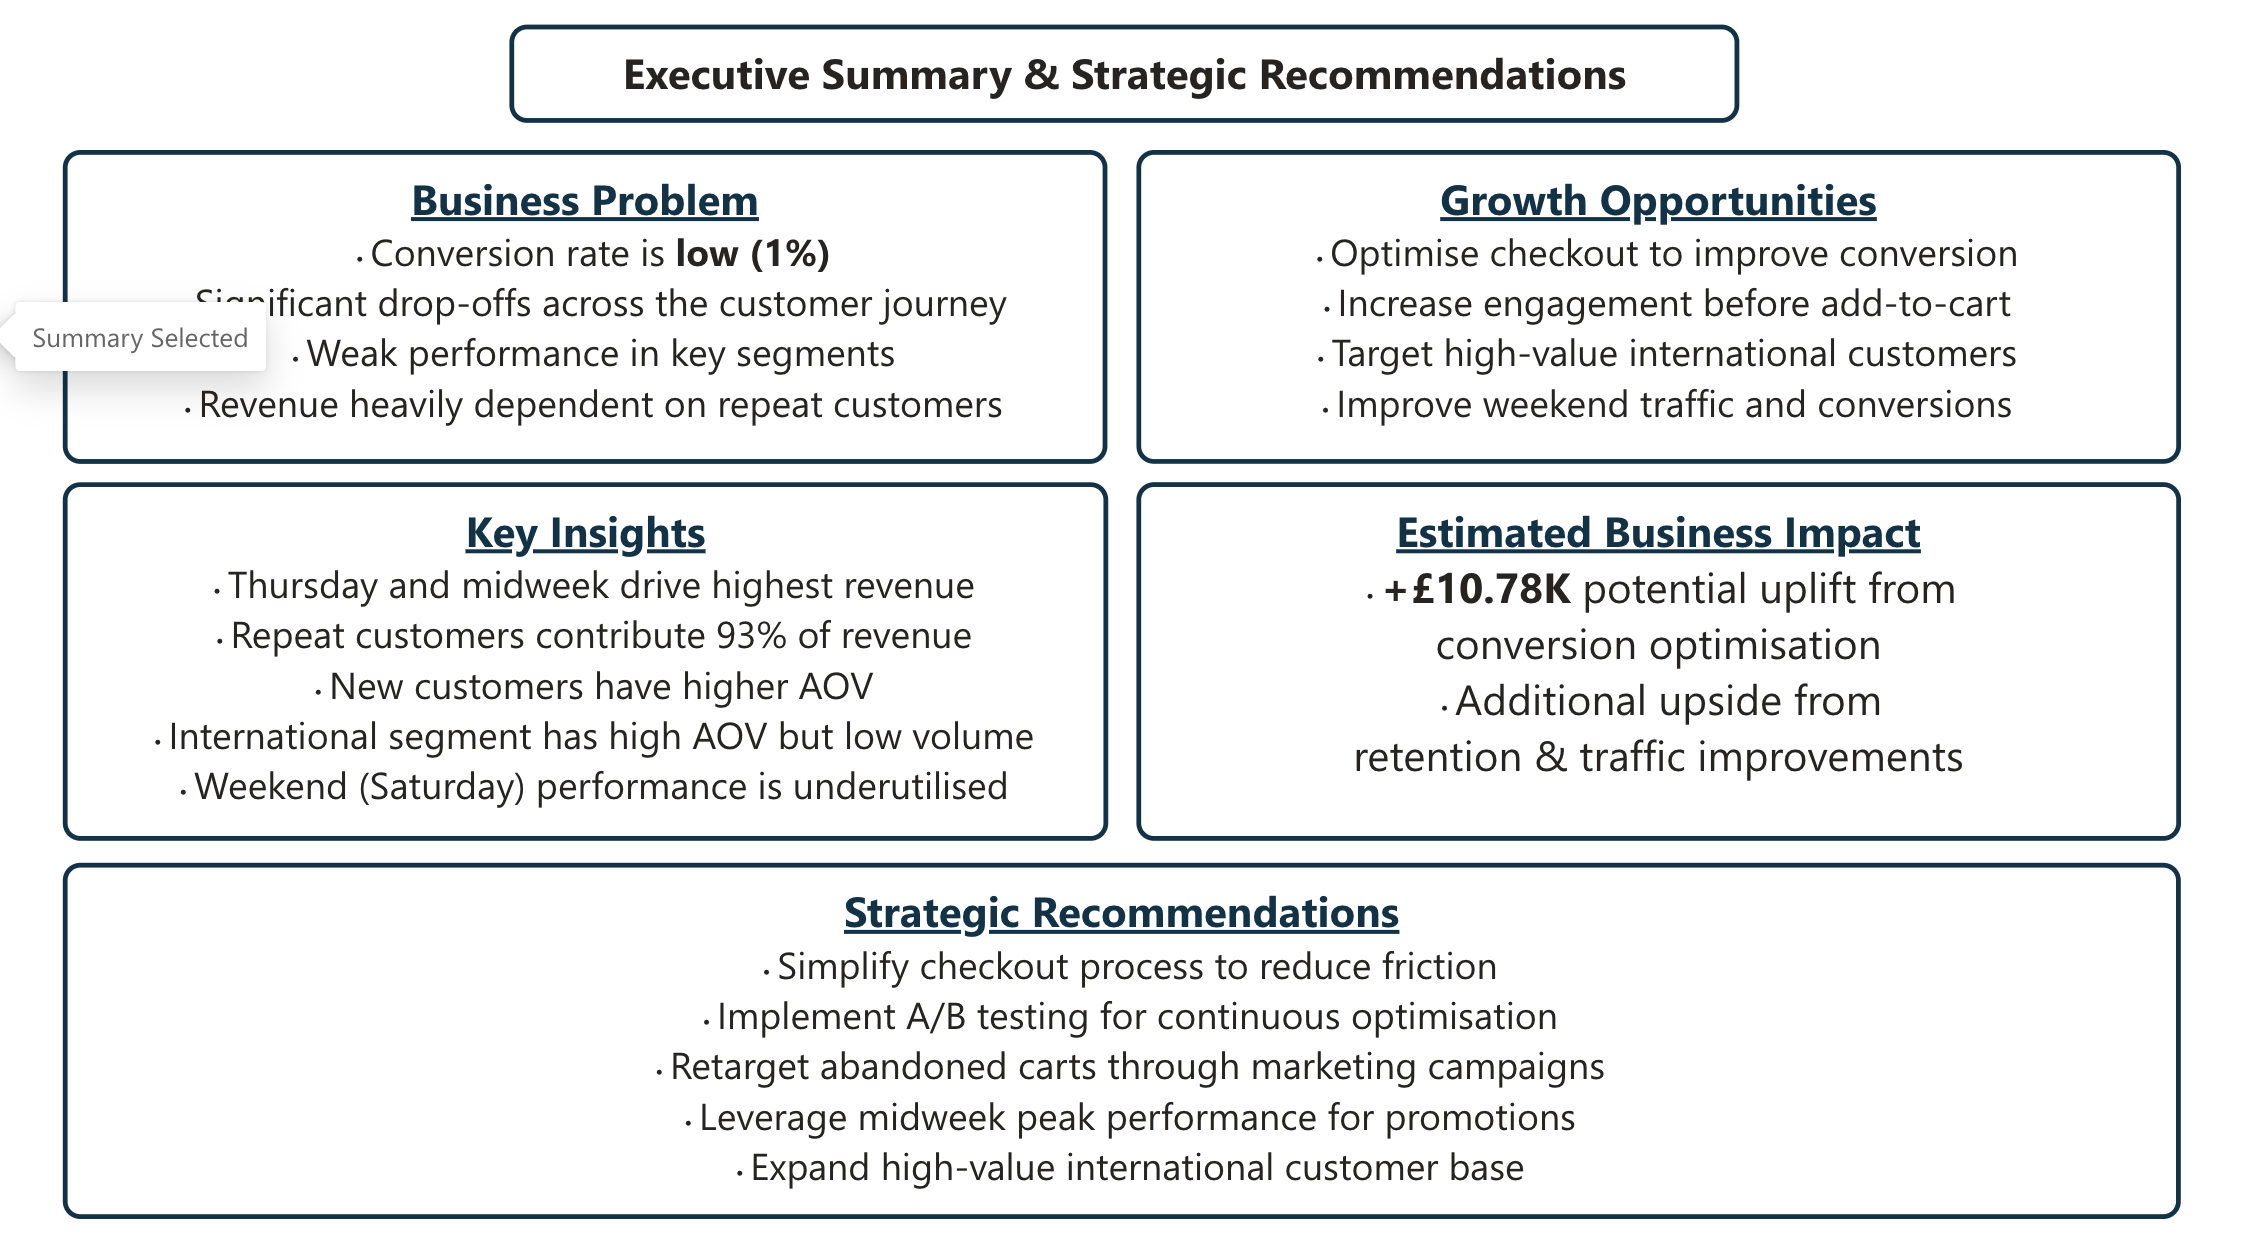

The page's visual inventory and layout, read from the dashboard file:
{"tool":"powerbi","page":{"name":"Summary","canvas":[1280,720],"ordinal":3},"visuals":[{"type":"textbox","box":[290.4,16.6,700.2,56],"z":2000},{"type":"textbox","box":[647.3,87.7,594.4,178.5],"z":3000},{"type":"textbox","box":[647.3,276.8,594.4,204.2],"z":8000},{"type":"textbox","box":[36.3,87.7,594.4,178.5],"z":9000},{"type":"textbox","box":[36.3,276.8,595,204.2],"z":9001},{"type":"textbox","box":[36.3,493,1205.4,202.7],"z":9002}]}

Visuals, with their boxes on the page's 1280x720 design canvas (x1, y1, x2, y2). These are canvas units, not pixel positions in the 2246x1254 screenshot, which may show the page scaled, cropped or inside an application window:
textbox: 290 17 991 73
textbox: 647 88 1242 266
textbox: 647 277 1242 481
textbox: 36 88 631 266
textbox: 36 277 631 481
textbox: 36 493 1242 696
